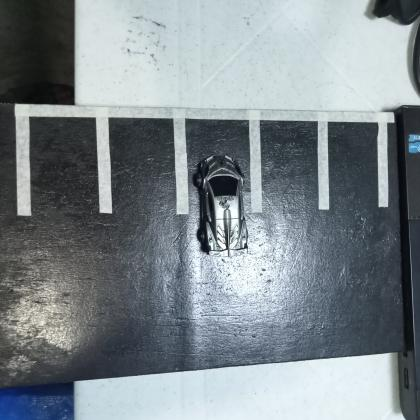Car: (194, 153, 251, 257)
